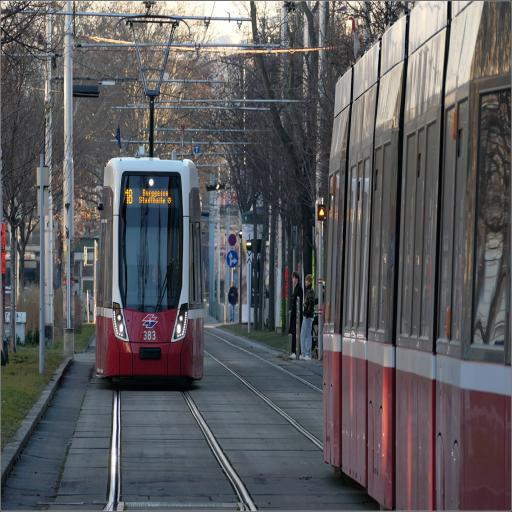Flexity: (96, 154, 206, 382)
